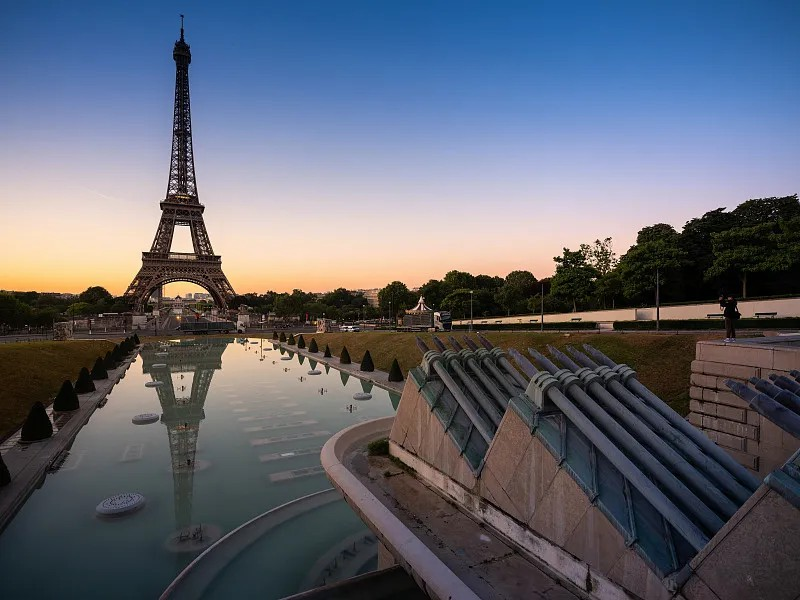Eiffel: (123, 15, 237, 312)
